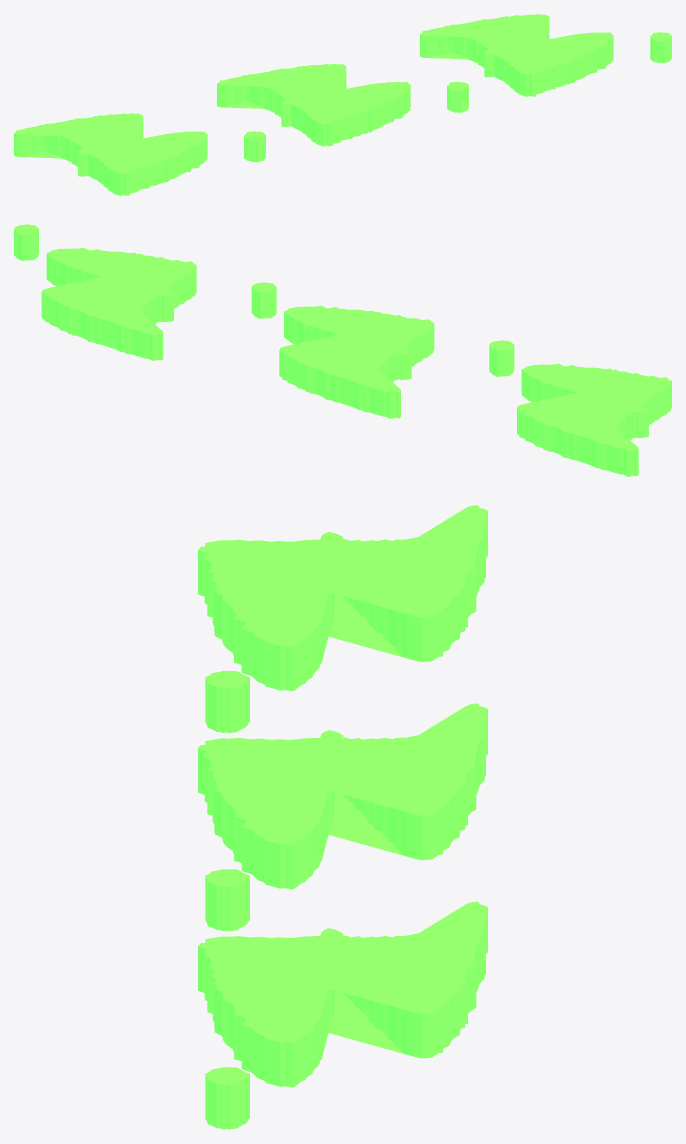
File: title.FBX
3 renders of one model, top to bottom at view 1: azimuth 30°, elevation 25°; view 2: azimuth 150°, elevation 25°; view 3: azimuth 270°, elevation 25°, orthographic. The views are drawn at different scales.
Parts seen in each view (by area): view 1: Text002; view 2: Text002; view 3: Text002.
Part boxes in pixels (bbox=[...]): Text002: bbox=[14, 14, 671, 195]; Text002: bbox=[14, 224, 671, 476]; Text002: bbox=[198, 505, 487, 1129].
Size of the model in its own units: 214 by 7.62 by 45.23.
